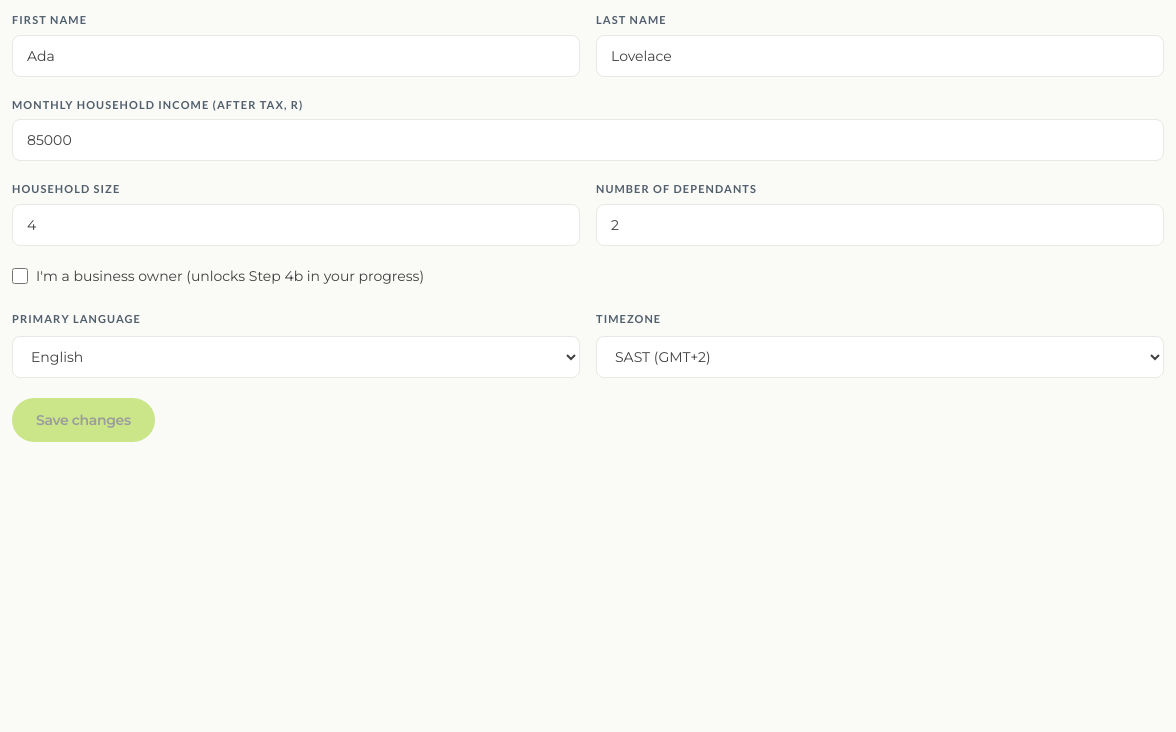
Test: ProfileForm › surfaces a server error message
Click the checkbox labelled "I'm a business owner (unlocks Step 4b in your progress)" at (20, 276), box [12, 268, 28, 284]
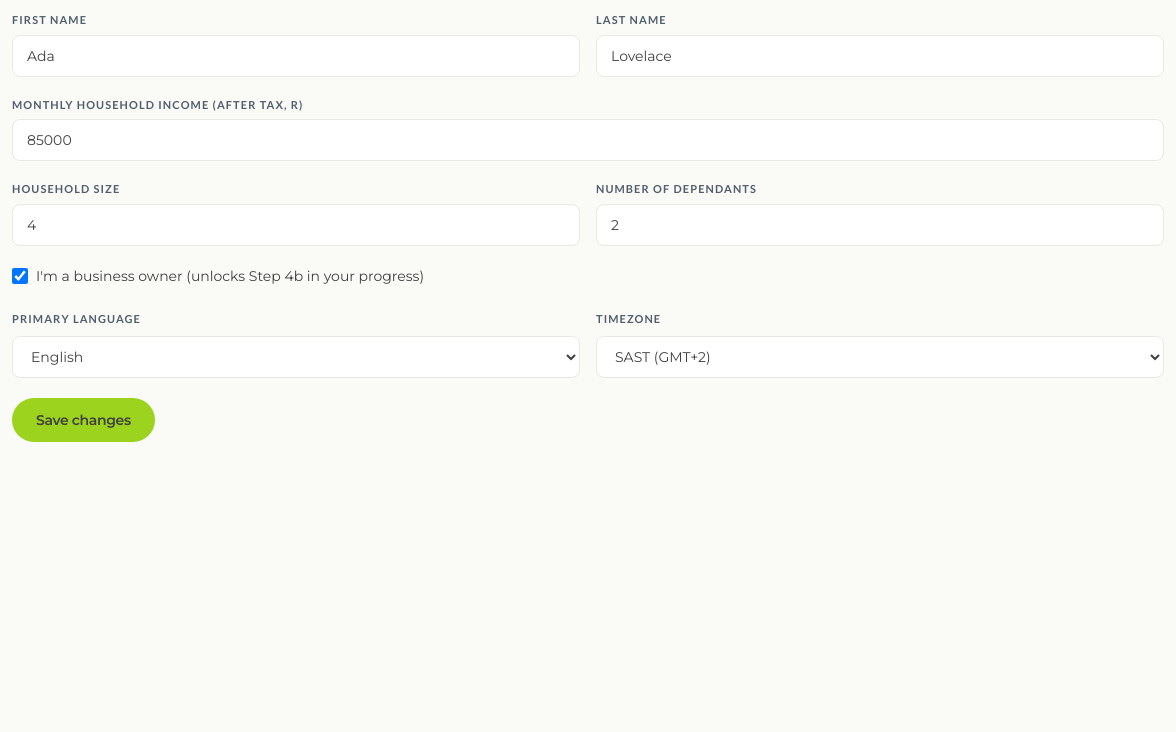
Click the button "Save changes" at (83, 420), box [12, 398, 155, 442]
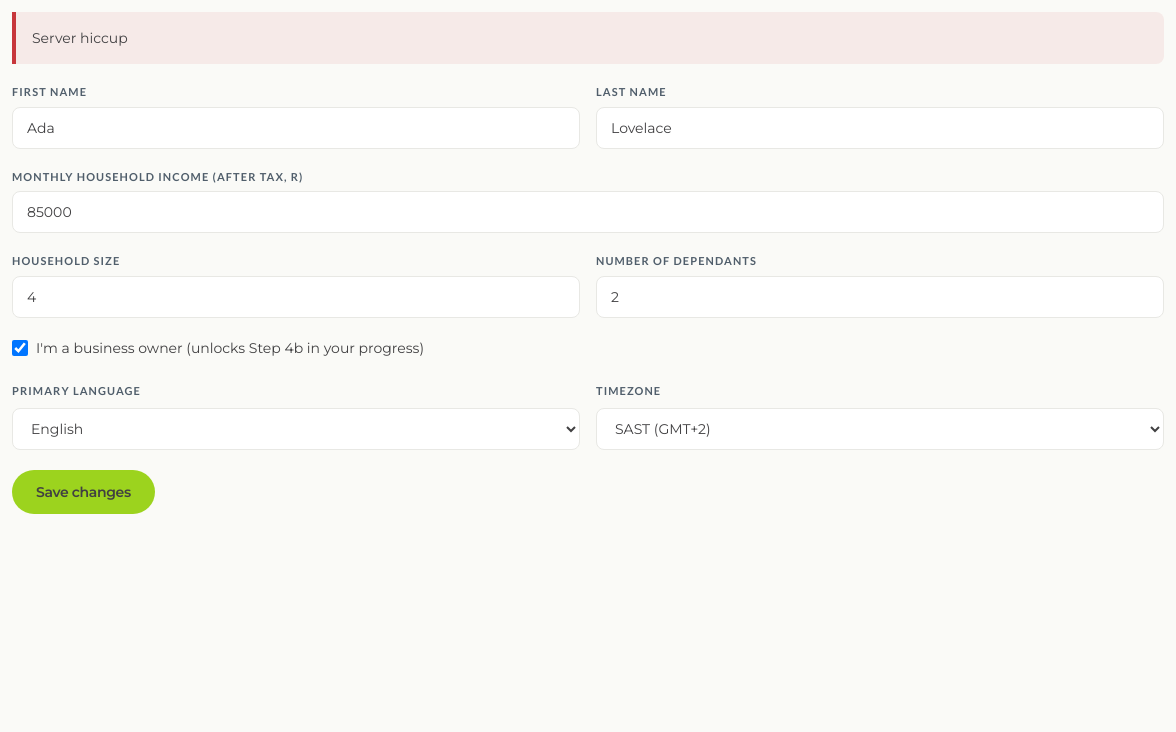
Now the text "Server hiccup" is shown, box [32, 29, 128, 47]
